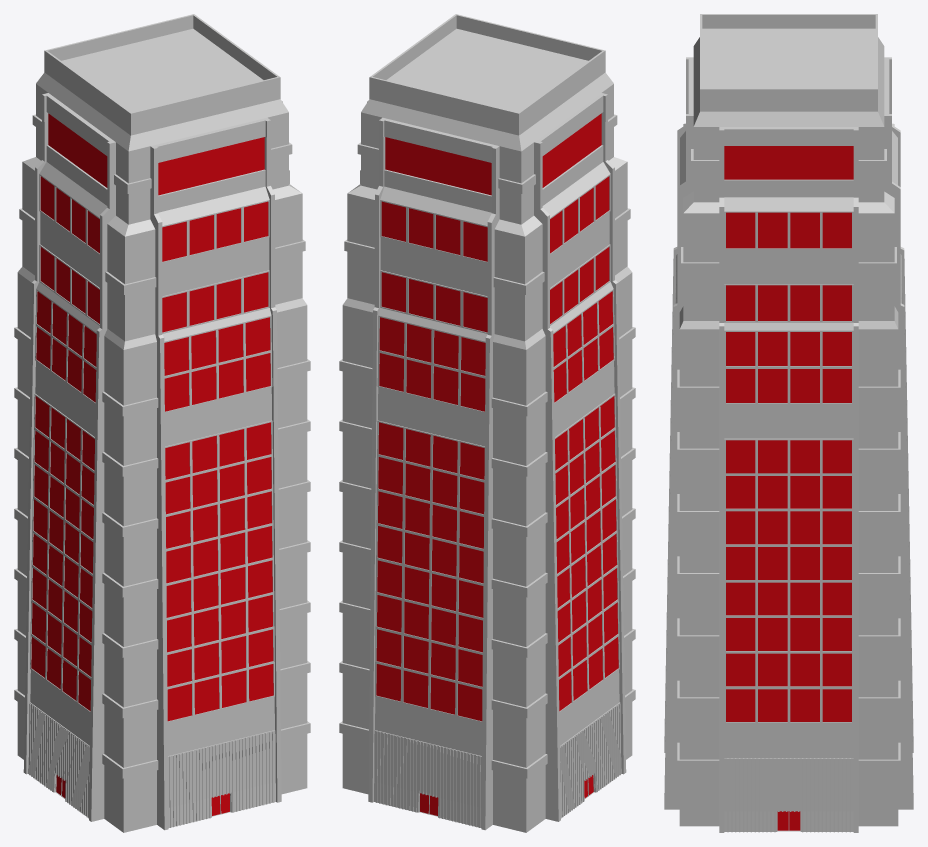
File: SM_skyscraper_05.glb
3 renders of one model, left to right at view 1: azimuth 30°, elevation 25°; view 2: azimuth 150°, elevation 25°; view 3: azimuth 270°, elevation 25°, orthographic. The views are drawn at different scales.
Visible parts, largest first — view 1: skyscraper_05; view 2: skyscraper_05; view 3: skyscraper_05.
Boxes of the visible parts, left/top/right/bottom form: skyscraper_05: left=14, top=14, right=310, bottom=832; skyscraper_05: left=339, top=14, right=635, bottom=832; skyscraper_05: left=664, top=14, right=913, bottom=832.
Size of the model in its own units: 30 by 96.67 by 30.
